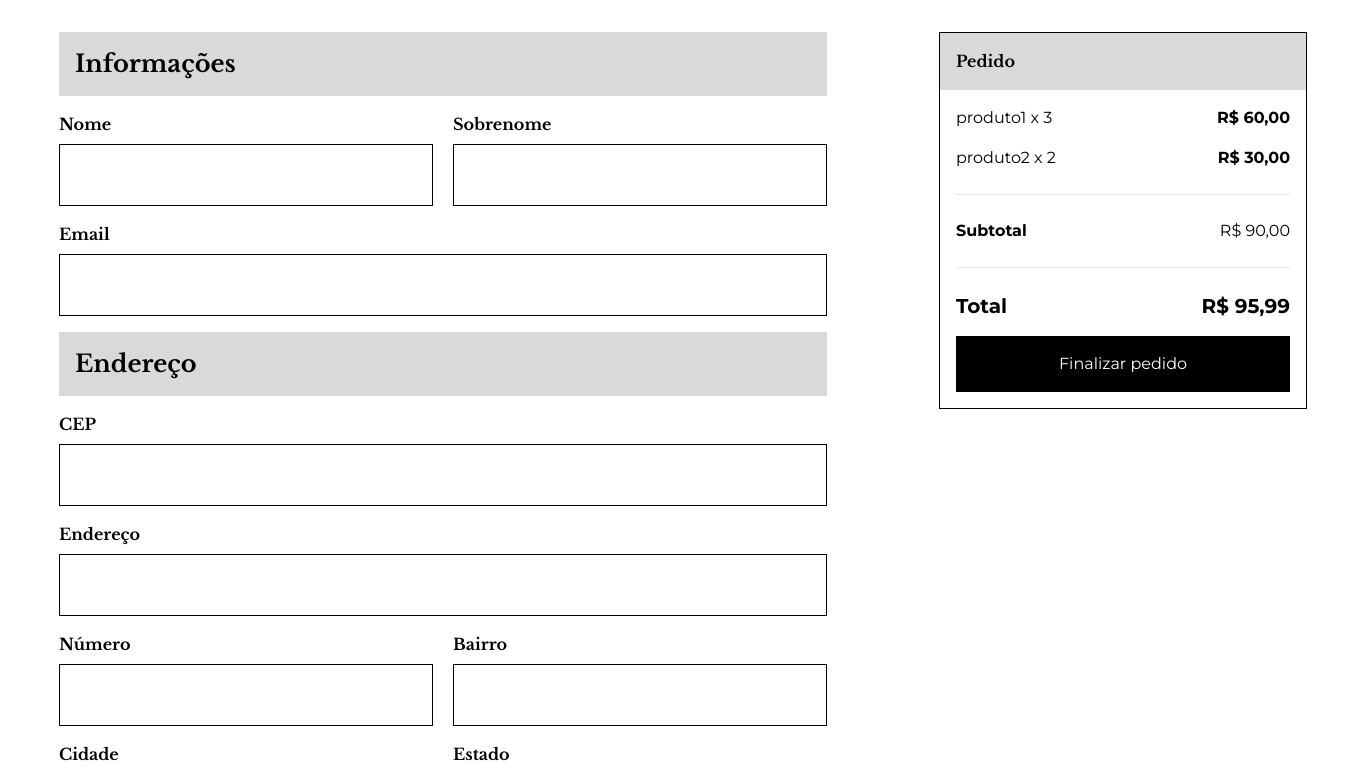
Test case: Checkout › loads address by CEP
Type "12345678" into the field labelled "CEP" at (443, 475), box [59,444,827,506]
(page scrolled)
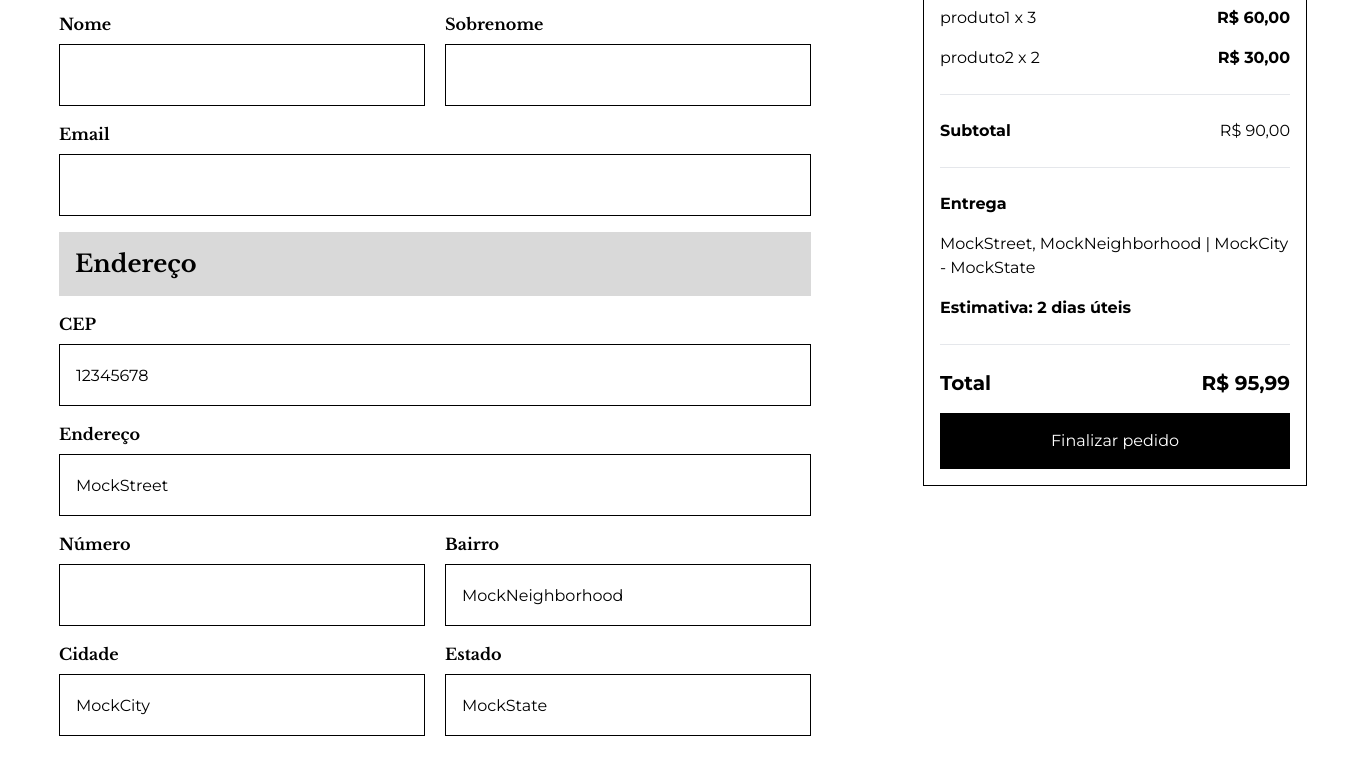
Check: the field labelled "Endereço" holds "MockStreet", box [59,454,811,516]
Check: the field labelled "Bairro" holds "MockNeighborhood", box [445,564,811,626]
Check: the field labelled "Cidade" holds "MockCity", box [59,674,425,736]
